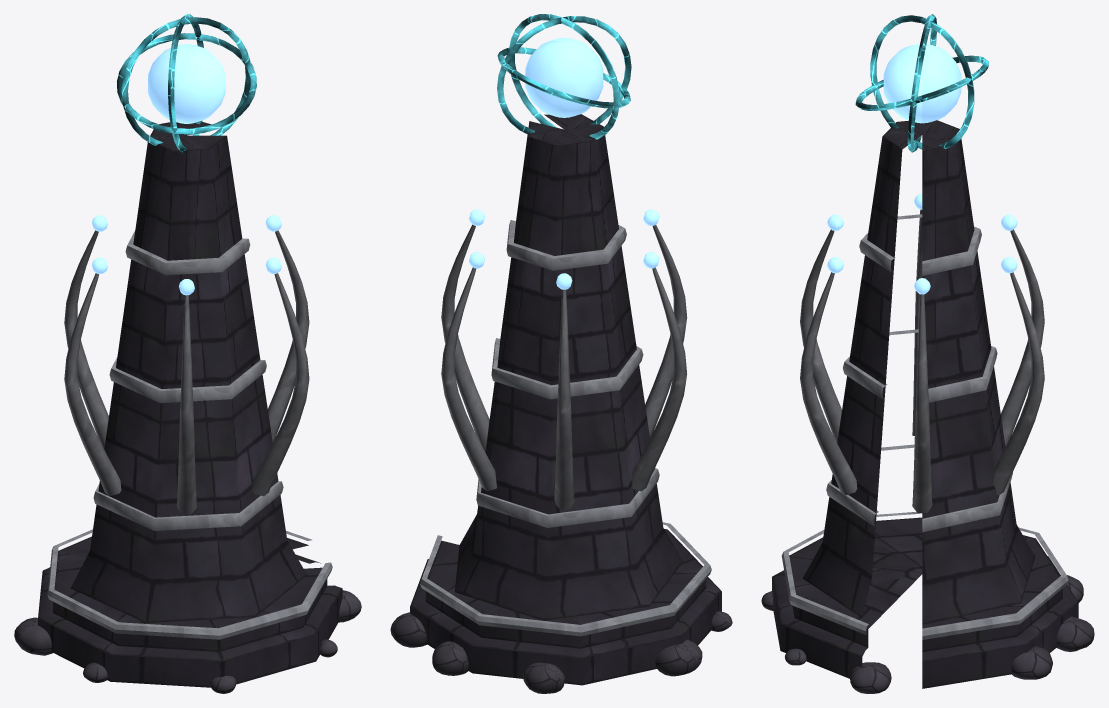
Rendered from thunderspire.glb.
3 renders of one model, left to right at view 1: azimuth 30°, elevation 25°; view 2: azimuth 150°, elevation 25°; view 3: azimuth 270°, elevation 25°, orthographic.
Visible parts, largest first — view 1: Base, Turret; view 2: Base, Turret; view 3: Base, Turret.
Boxes of the visible parts, x1,y1,x2,y2 form: Base: [14, 122, 361, 693]; Turret: [117, 14, 256, 153]; Base: [390, 114, 732, 693]; Turret: [497, 14, 631, 139]; Base: [761, 120, 1094, 693]; Turret: [855, 14, 988, 152].
Bounding box in the file's own units: 1.02 × 2.02 × 0.9968.
Materials: 6 (6 with a texture image).
